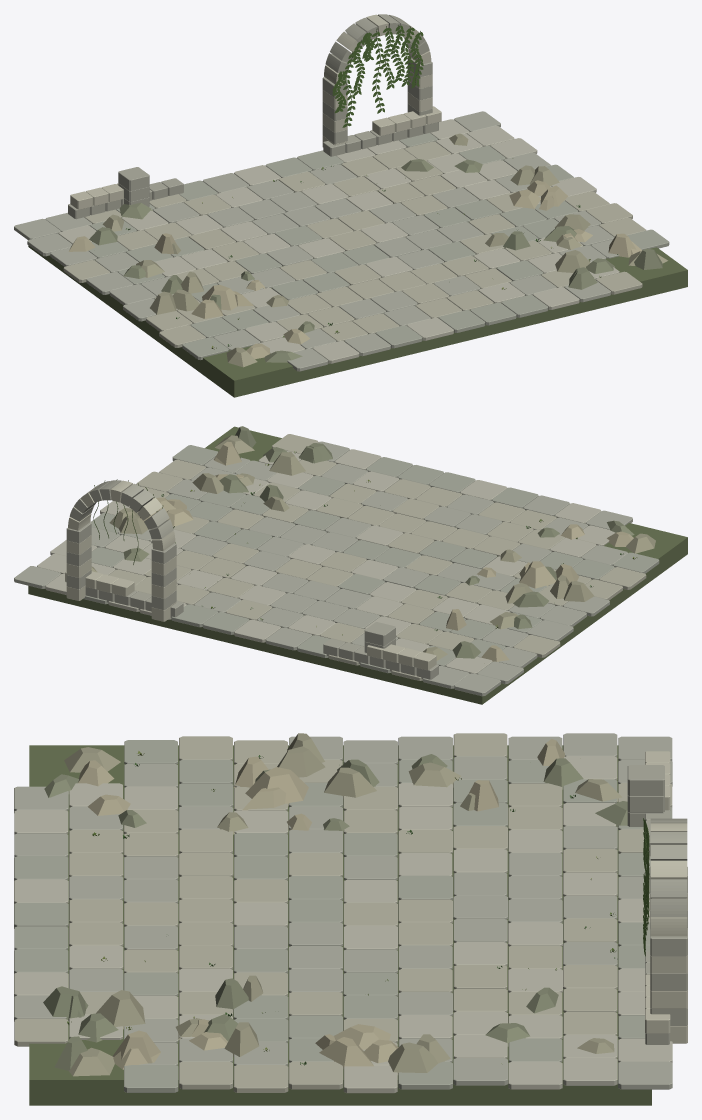
The model's file is terrace.glb.
The picture shows the model from 3 angles, top to bottom: view 1: azimuth 30°, elevation 25°; view 2: azimuth 150°, elevation 25°; view 3: azimuth 270°, elevation 25°; orthographic projection. The views are drawn at different scales.
Visible parts, largest first — view 1: terrace; view 2: terrace; view 3: terrace.
Boxes of the visible parts, box(x1,y1,x2,y2) form: terrace: box(14, 14, 687, 397); terrace: box(14, 426, 687, 704); terrace: box(14, 733, 687, 1105).
Size of the model in its own units: 14.84 by 4.02 by 11.91.
